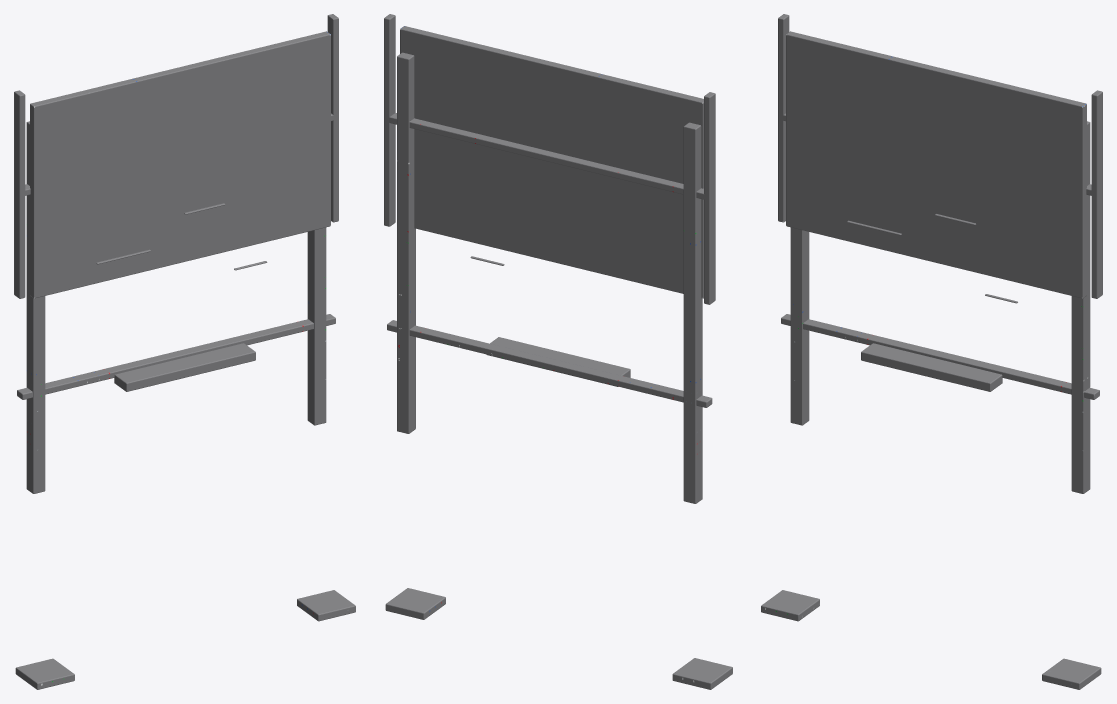
Rendered from mesh_prop-whiteboard.fbx.
3 views of the same model, side by side, from view 1: azimuth 30°, elevation 25°; view 2: azimuth 150°, elevation 25°; view 3: azimuth 330°, elevation 25° (orthographic). The views are drawn at different scales.
Visible parts, largest first — view 1: mesh_prop-whiteboard; view 2: mesh_prop-whiteboard; view 3: mesh_prop-whiteboard.
Boxes of the visible parts, <box> form: mesh_prop-whiteboard: <box>14,14,355,689</box>; mesh_prop-whiteboard: <box>384,14,732,689</box>; mesh_prop-whiteboard: <box>761,14,1102,689</box>.
Bounding box in the file's own units: 1.18 × 2.06 × 0.1525.
1 material, 1 textured.
